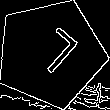L_SW: (22, 24, 80, 83)
